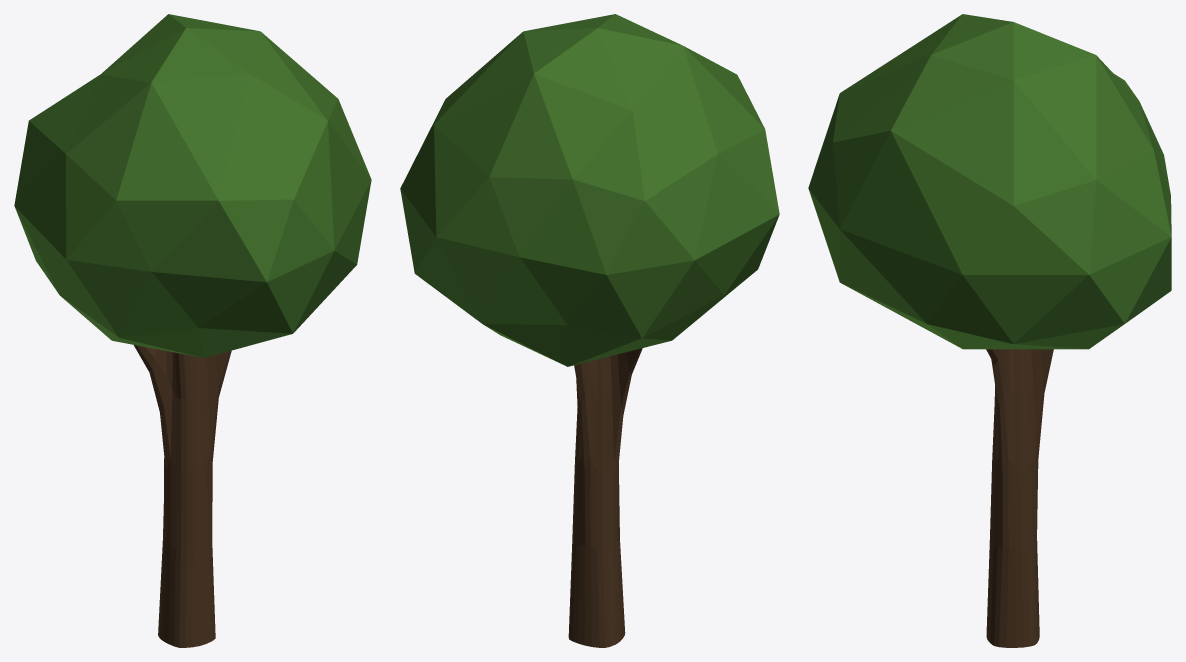
Rendered from ExportedBlenderFBXFile.fbx.
3 renders of one model, left to right at view 1: azimuth 30°, elevation 25°; view 2: azimuth 150°, elevation 25°; view 3: azimuth 270°, elevation 25°, orthographic.
Visible parts, largest first — view 1: Icosphere, Cube; view 2: Icosphere, Cube; view 3: Icosphere, Cube.
Part boxes in pixels (x1,y1,x2,y2): Icosphere: [14, 14, 371, 357]; Cube: [134, 345, 231, 647]; Icosphere: [400, 14, 779, 366]; Cube: [568, 348, 642, 647]; Icosphere: [808, 14, 1171, 349]; Cube: [986, 349, 1053, 647].
Size of the model in its own units: 6.08 by 11.36 by 6.09.
